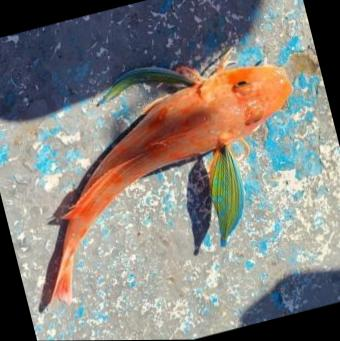fish: (54, 63, 293, 302)
